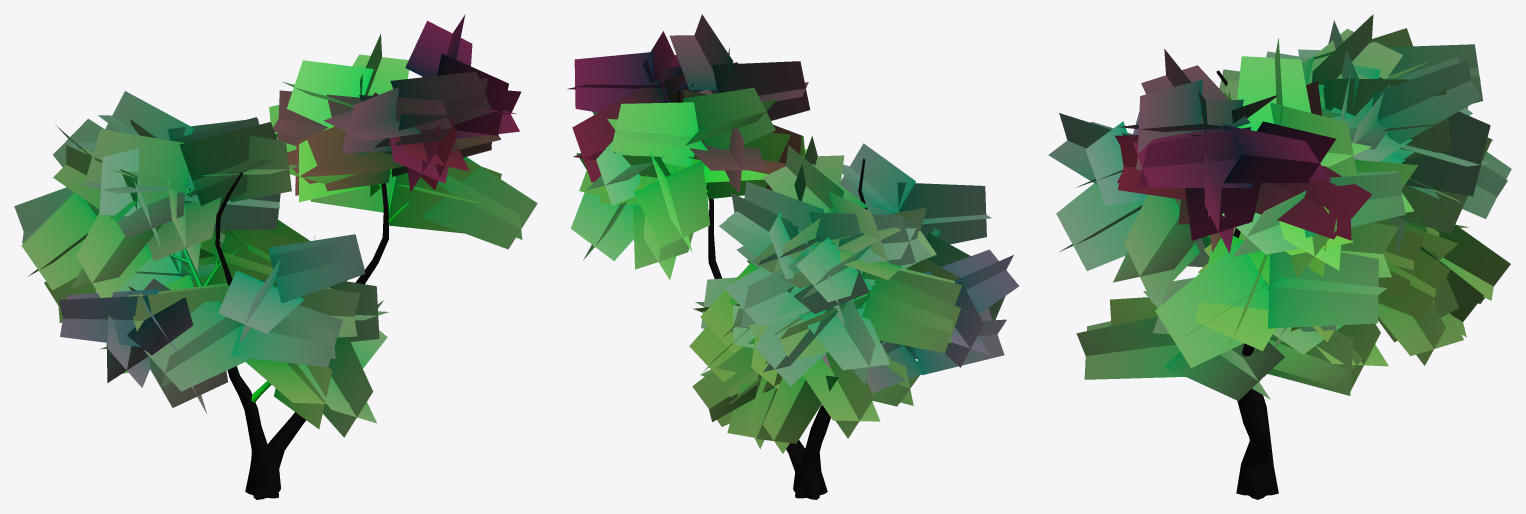
Rendered from M_Realistic12_14.fbx.
3 views of the same model, side by side, from view 1: azimuth 30°, elevation 25°; view 2: azimuth 150°, elevation 25°; view 3: azimuth 270°, elevation 25° (orthographic). The views are drawn at different scales.
Parts seen in each view (by area): view 1: Tree_14; view 2: Tree_14; view 3: Tree_14.
Part boxes in pixels (<box>): Tree_14: <box>14,14,537,499</box>; Tree_14: <box>567,14,1018,499</box>; Tree_14: <box>1048,14,1511,499</box>.
Bounding box in the file's own units: 1634 × 1489 × 1288.
